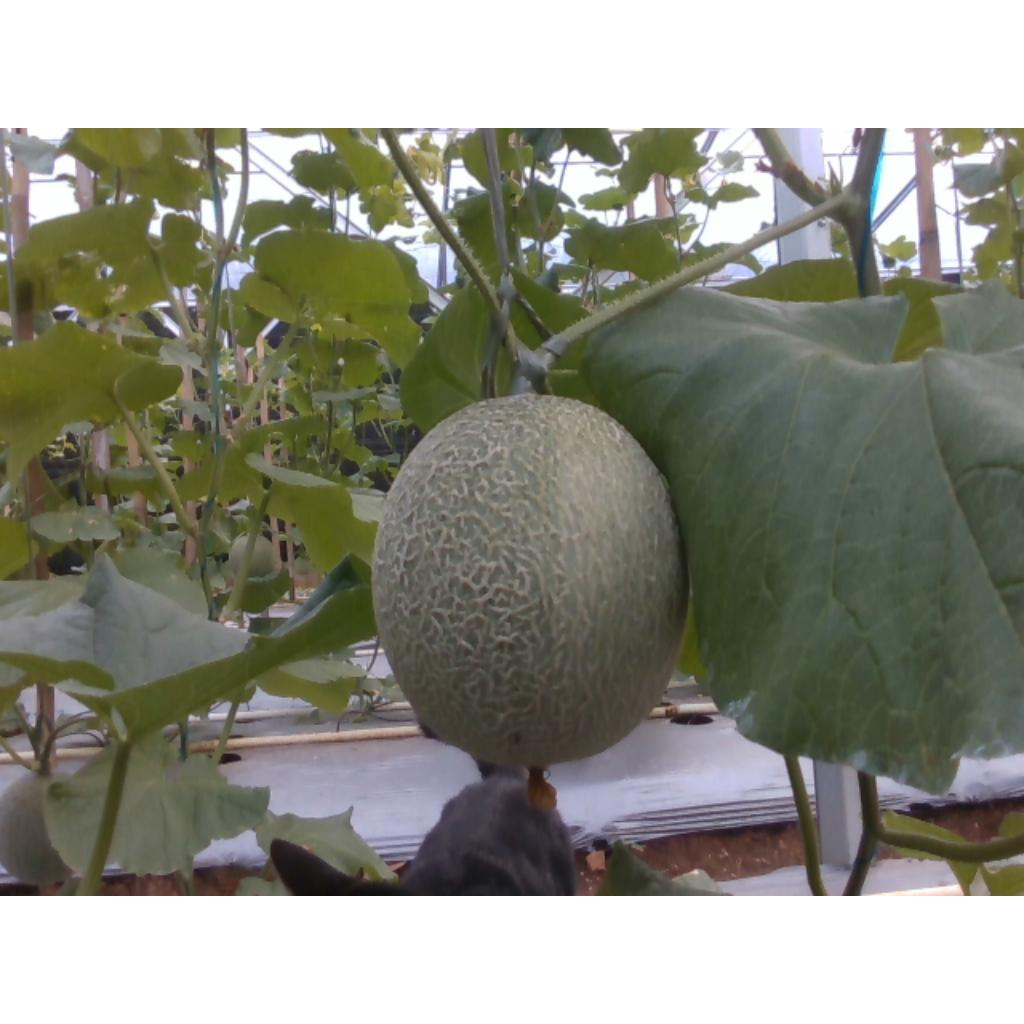melon: (373, 394, 690, 767)
